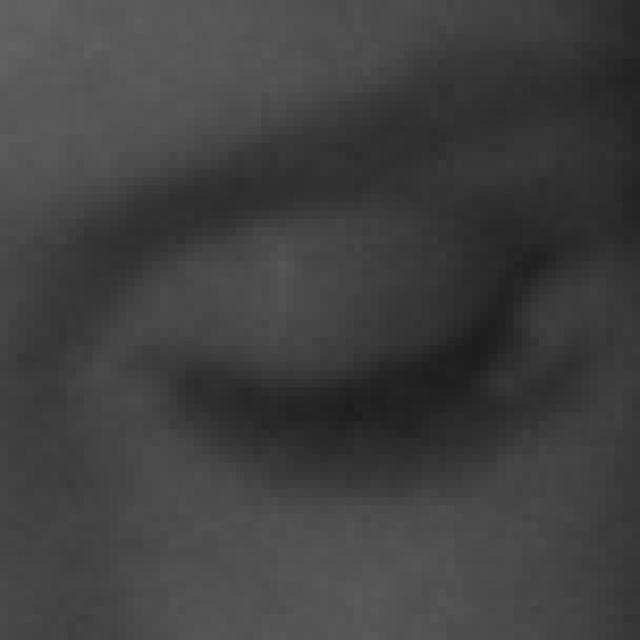Eyeclosed: (164, 223, 597, 547)
